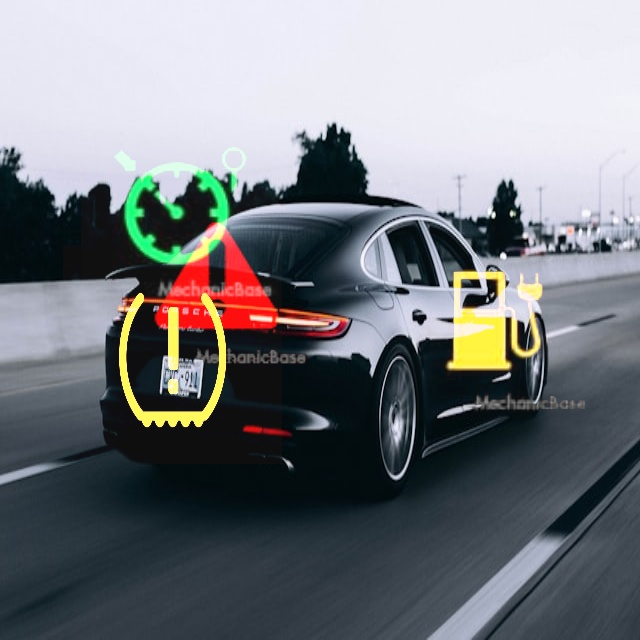symbol: (63, 245, 282, 464), (81, 108, 279, 306), (399, 225, 593, 419), (120, 180, 313, 373)
